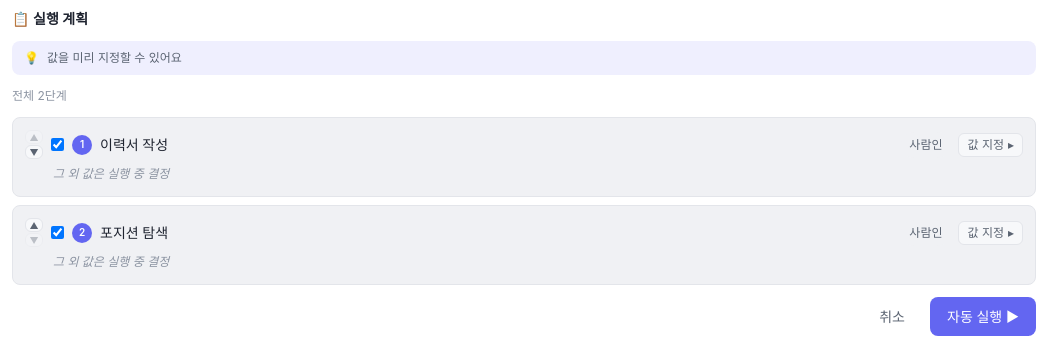
Test: PlanCard 값 사전 편집 › 스킵된 레시피는 [값 지정] 토글이 비활성
# 포지션 탐색 스킵
Click the checkbox named "포지션 탐색 실행 포함" at (58, 232), box top-left (51, 226), bottom-right (64, 239)
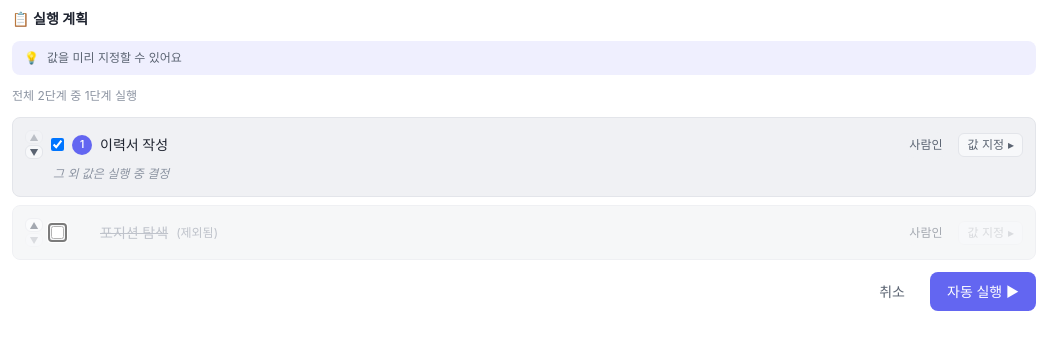
Expected: the button with aria-label "포지션 탐색 값 지정" is disabled, top-left (958, 220), bottom-right (1023, 244)
